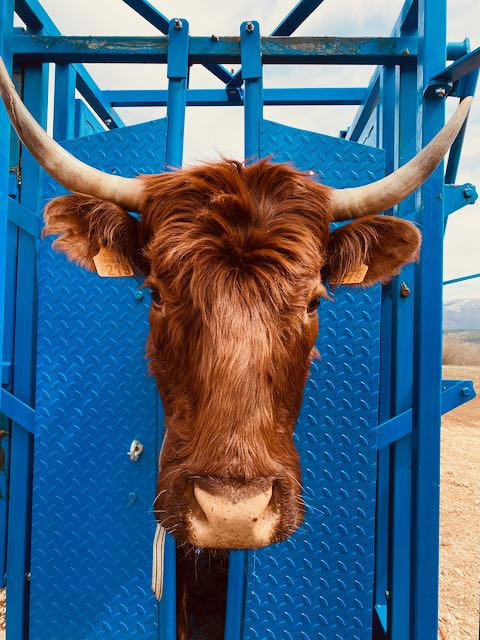muzzles: (167, 466, 298, 553)
